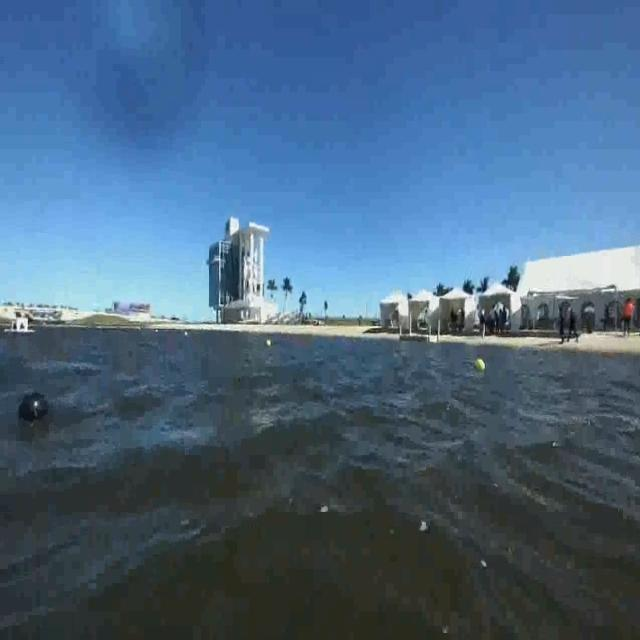black-buoy: (18, 393, 51, 429)
yellow-buoy: (476, 356, 487, 372)
